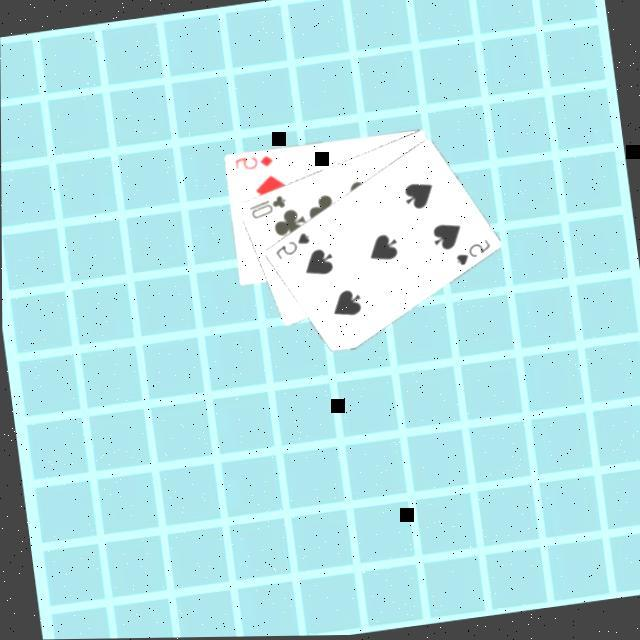10C: (240, 190, 288, 222)
5D: (229, 149, 273, 175)
5S: (266, 228, 312, 264), (448, 234, 492, 270)
